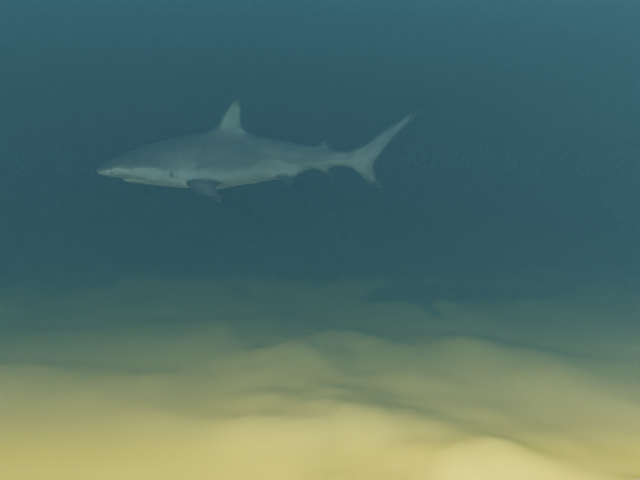Carribean Shark.001: (95, 97, 420, 202)
